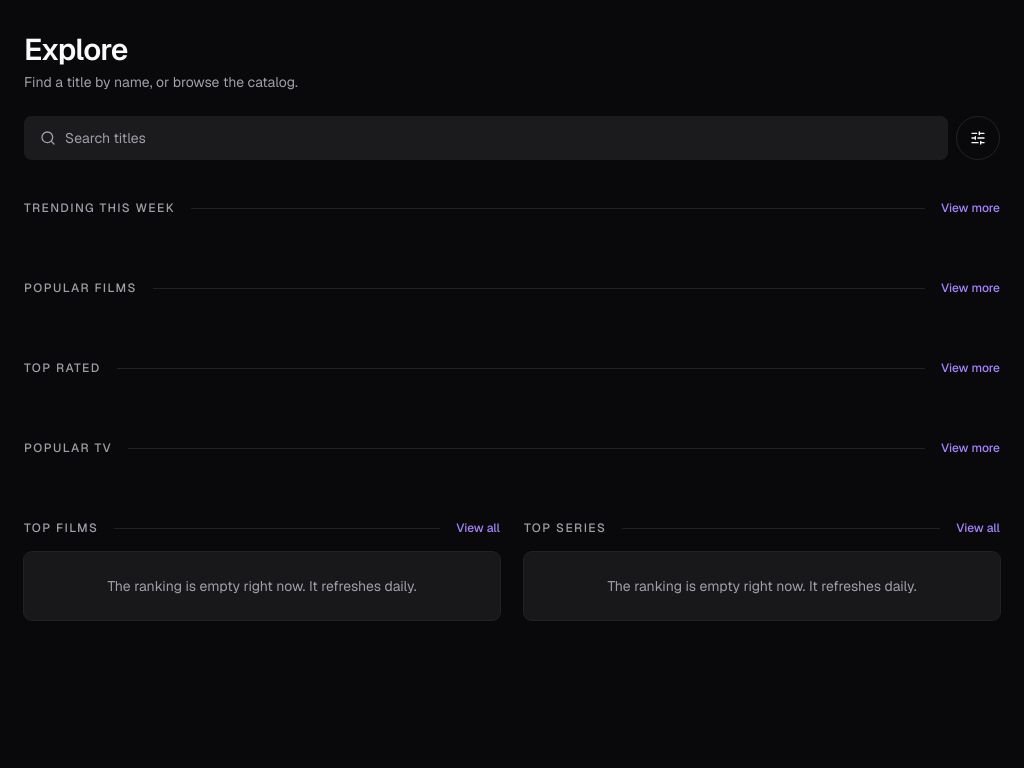
Scenario: ExploreClient search › recovers from a failed search with Try again
Type "parasite" into the field named "Search films, TV, and people" at (486, 138), box [24,116,948,160]
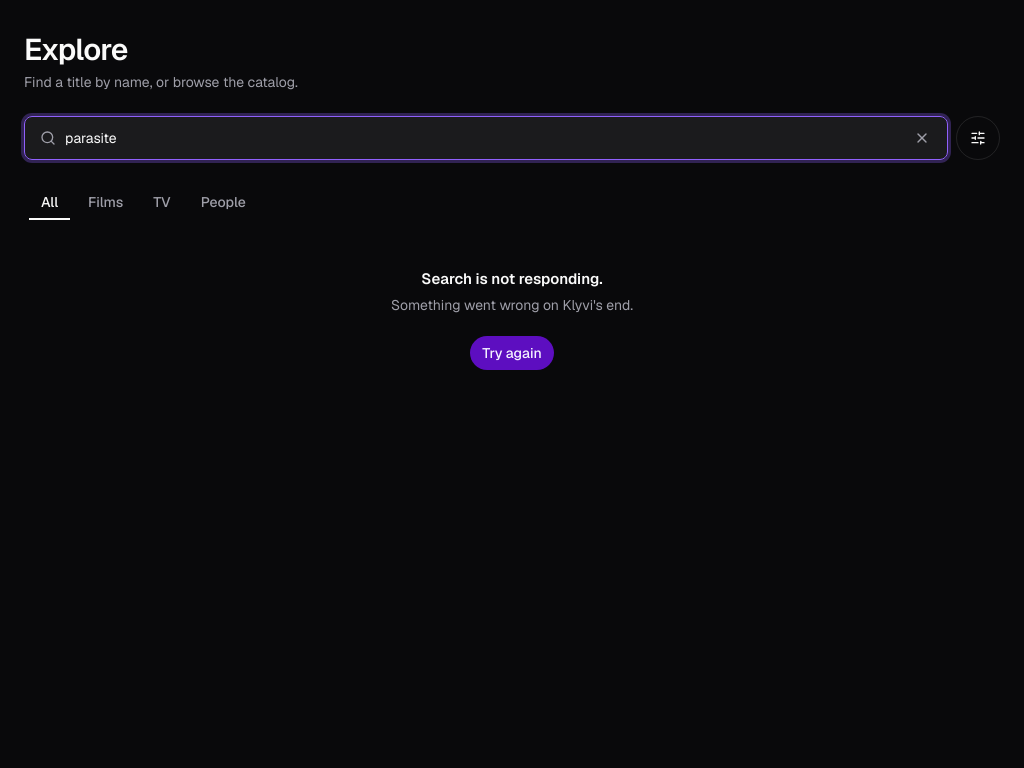
Now the text "Search is not responding." is shown, box [421,269,603,288]
Click the button "Try again" at (512, 352), box [469,334,555,370]
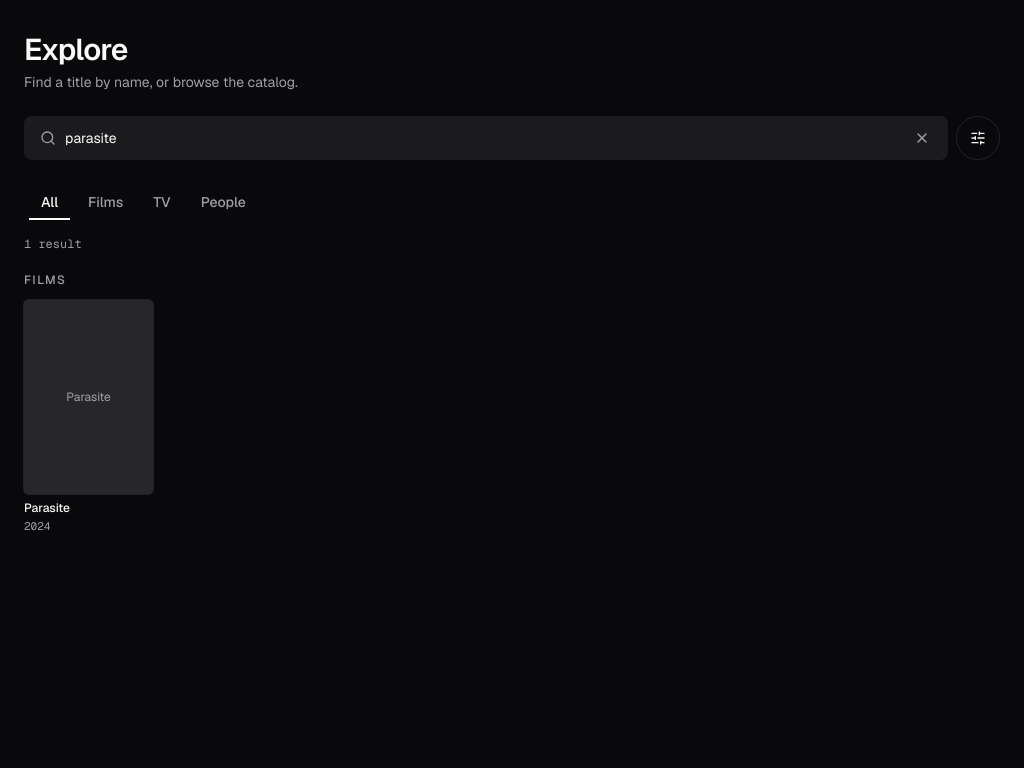
Now the text "Search is not responding." is gone
